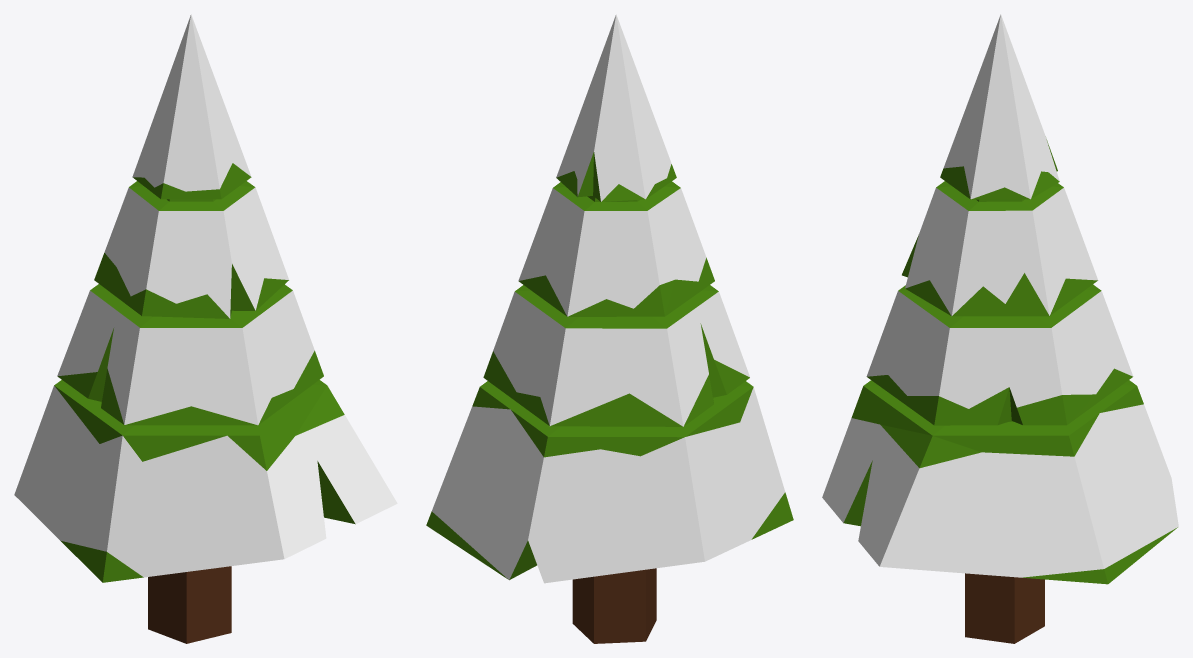
Rendered from Snow_tree_lowPoly.fbx.
3 renders of one model, left to right at view 1: azimuth 30°, elevation 25°; view 2: azimuth 150°, elevation 25°; view 3: azimuth 270°, elevation 25°, orthographic.
Parts seen in each view (by area): view 1: Цилиндр; view 2: Цилиндр; view 3: Цилиндр.
Boxes of the visible parts, x1,y1,x2,y2 form: Цилиндр: (14, 14, 397, 643); Цилиндр: (426, 14, 793, 643); Цилиндр: (822, 14, 1178, 643).
Size of the model in its own units: 728 by 1526 by 806.
